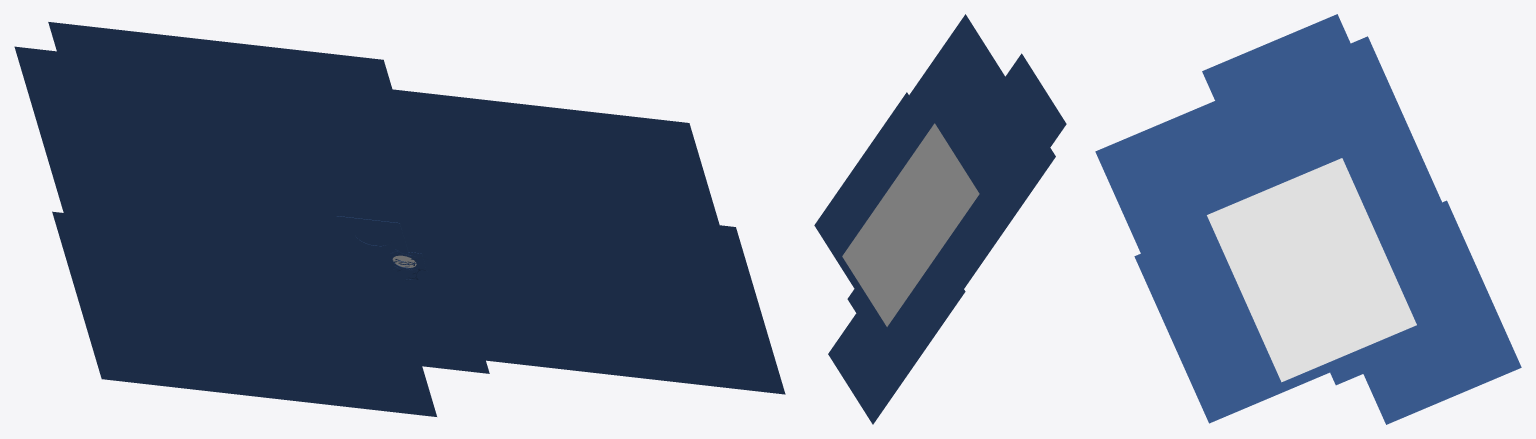
File: Opening pinhole.fbx
The picture shows the model from 3 angles, left to right: view 1: azimuth 30°, elevation 25°; view 2: azimuth 150°, elevation 25°; view 3: azimuth 270°, elevation 25°; orthographic projection. The views are drawn at different scales.
Parts seen in each view (by area): view 1: Whitebox_cube (7), Whitebox_cube (2), Whitebox_cube (6), Whitebox_cube (3), Whitebox_cube (5), Whitebox_cube (4), Whitebox_cube (1); view 2: plants, Whitebox_cube (5), Whitebox_cube (3), Whitebox_cube (6), Whitebox_cube (2), Whitebox_cube (7), Whitebox_cube (4); view 3: plants, Whitebox_cube (3), Whitebox_cube (5), Whitebox_cube (6), Whitebox_cube (2), Whitebox_cube (7), Whitebox_cube (4).
Part boxes in pixels (left/top/right/bottom): Whitebox_cube (7): left=14, top=46, right=391, bottom=245; Whitebox_cube (2): left=400, top=189, right=785, bottom=394; Whitebox_cube (6): left=52, top=211, right=436, bottom=416; Whitebox_cube (3): left=392, top=89, right=719, bottom=252; Whitebox_cube (5): left=48, top=22, right=422, bottom=224; Whitebox_cube (4): left=352, top=264, right=489, bottom=373; Whitebox_cube (1): left=336, top=216, right=409, bottom=256; plants: left=842, top=123, right=979, bottom=326; Whitebox_cube (5): left=956, top=53, right=1066, bottom=256; Whitebox_cube (3): left=873, top=14, right=1010, bottom=180; Whitebox_cube (6): left=828, top=252, right=965, bottom=424; Whitebox_cube (2): left=814, top=92, right=908, bottom=295; Whitebox_cube (7): left=939, top=148, right=1055, bottom=289; Whitebox_cube (4): left=847, top=289, right=867, bottom=312; plants: left=1207, top=158, right=1416, bottom=382; Whitebox_cube (3): left=1095, top=94, right=1272, bottom=318; Whitebox_cube (5): left=1202, top=14, right=1411, bottom=202; Whitebox_cube (6): left=1353, top=200, right=1521, bottom=424; Whitebox_cube (2): left=1134, top=253, right=1344, bottom=423; Whitebox_cube (7): left=1351, top=36, right=1442, bottom=231; Whitebox_cube (4): left=1330, top=352, right=1363, bottom=385.
Size of the model in its own units: 106 by 86.17 by 113.
